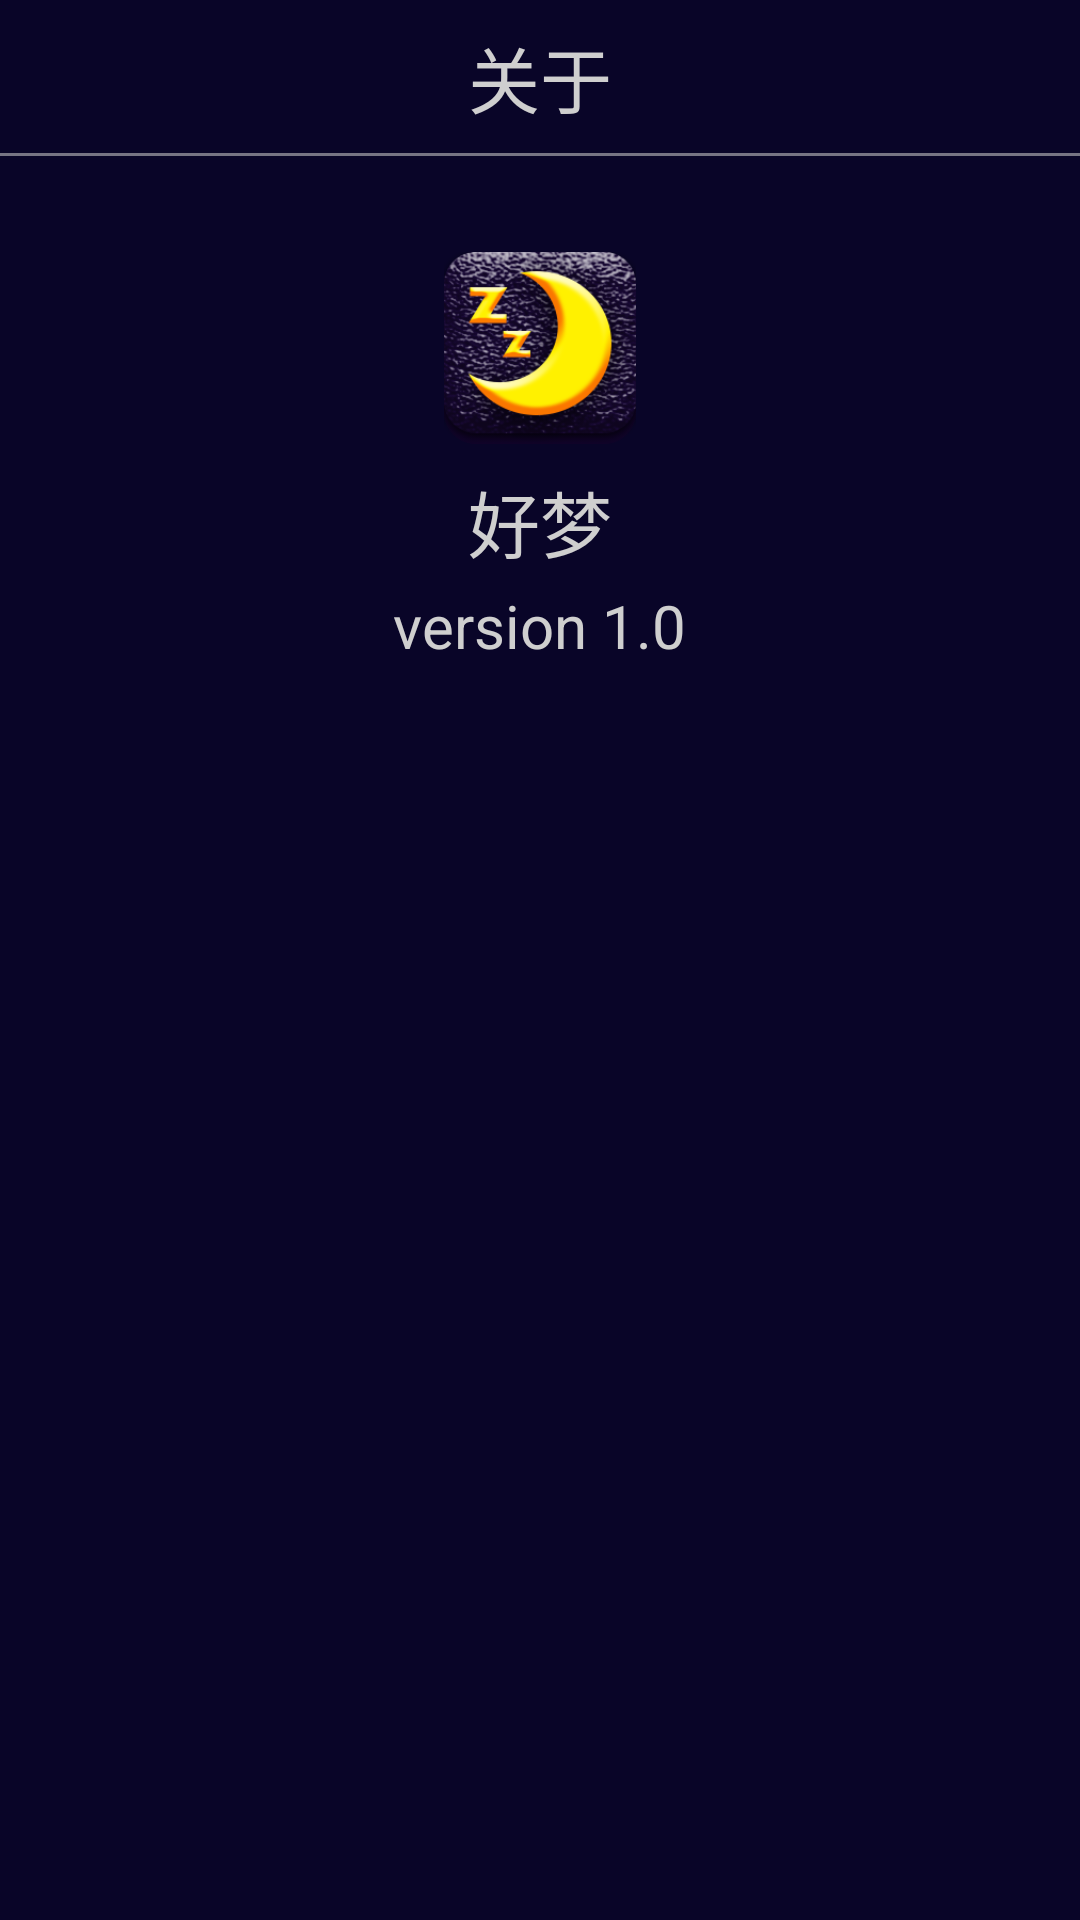

Locate icon controls on the screen. Image size 1080px x 1920px, boxes as box=[x1, y1, x2, y2].
moon: box=[444, 252, 636, 433]
